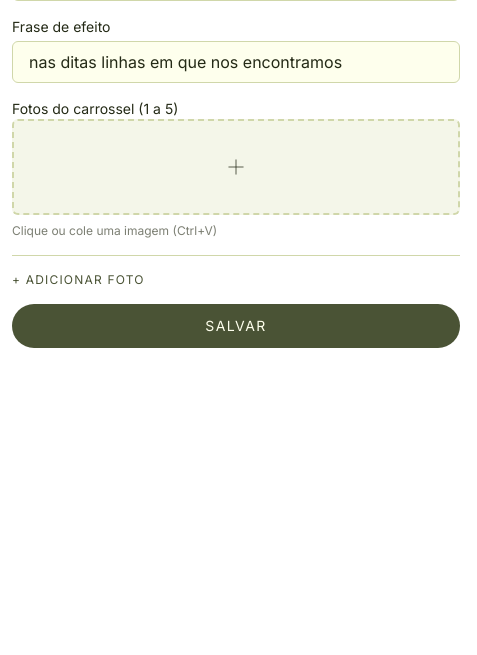
Test case: HomeHeroForm › adds a new slot when clicking + Adicionar foto, up to the 5-slot cap
Click the button "+ Adicionar foto" at (78, 280), box [12,272,145,288]
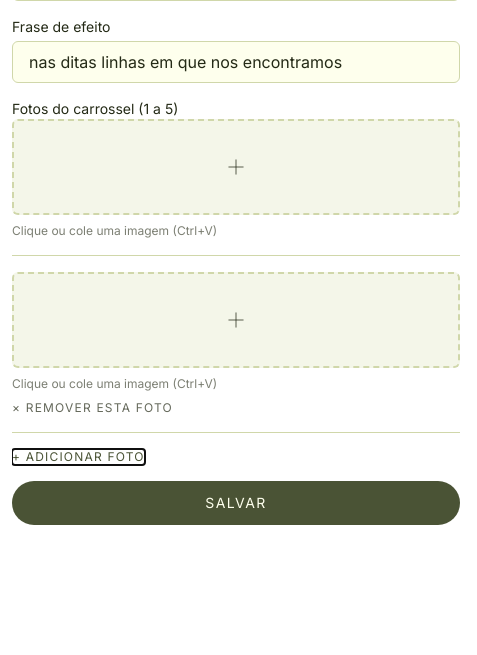
Click the button "+ Adicionar foto" at (78, 457), box [12,449,145,465]
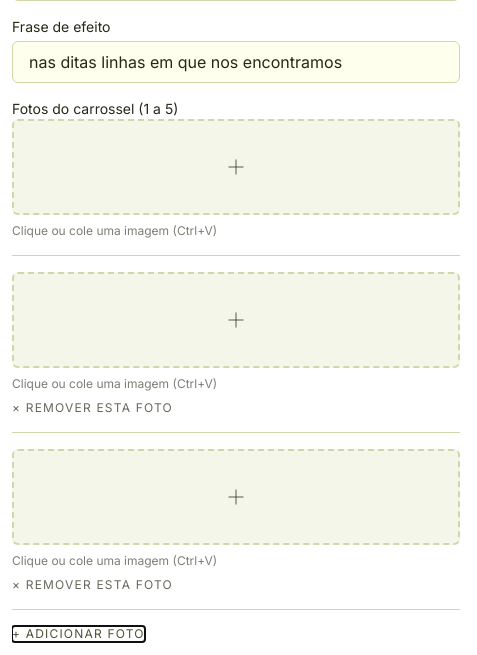
Click the button "+ Adicionar foto" at (78, 634), box [12,626,145,642]
(page scrolled)
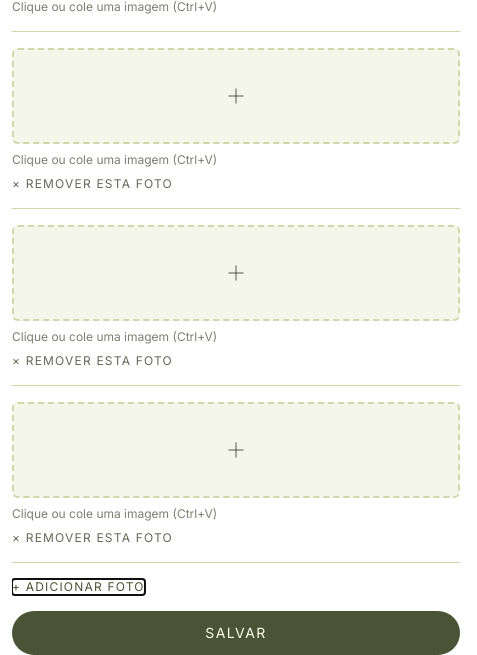
Click the button "+ Adicionar foto" at (78, 587), box [12,579,145,595]
(page scrolled)
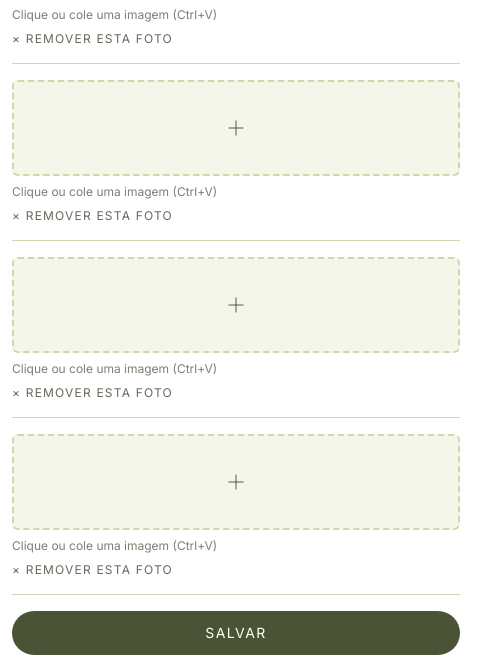
Result: the button named "Adicionar Foto 5" is shown at [12,434,460,530]
Result: the button "+ Adicionar foto" is gone
